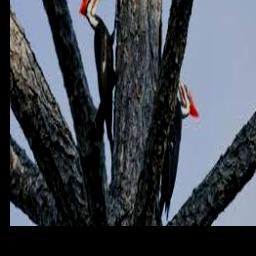Woodpecker: (159, 67, 199, 219), (80, 0, 119, 154)
